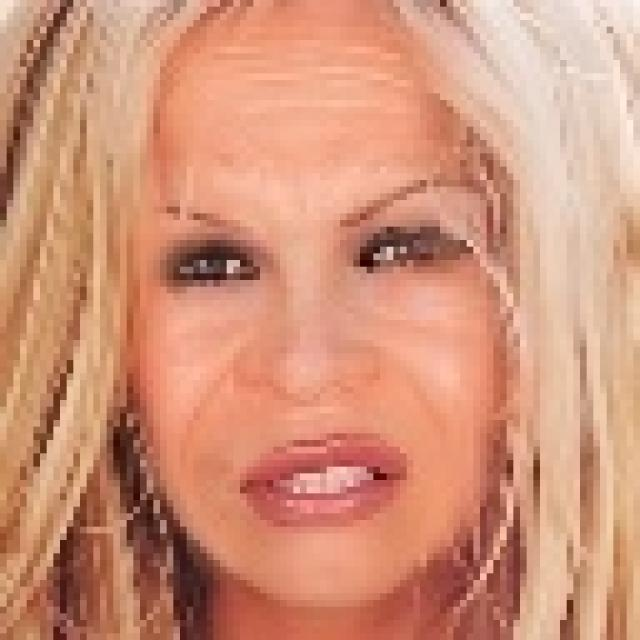angry: (86, 46, 545, 598)
